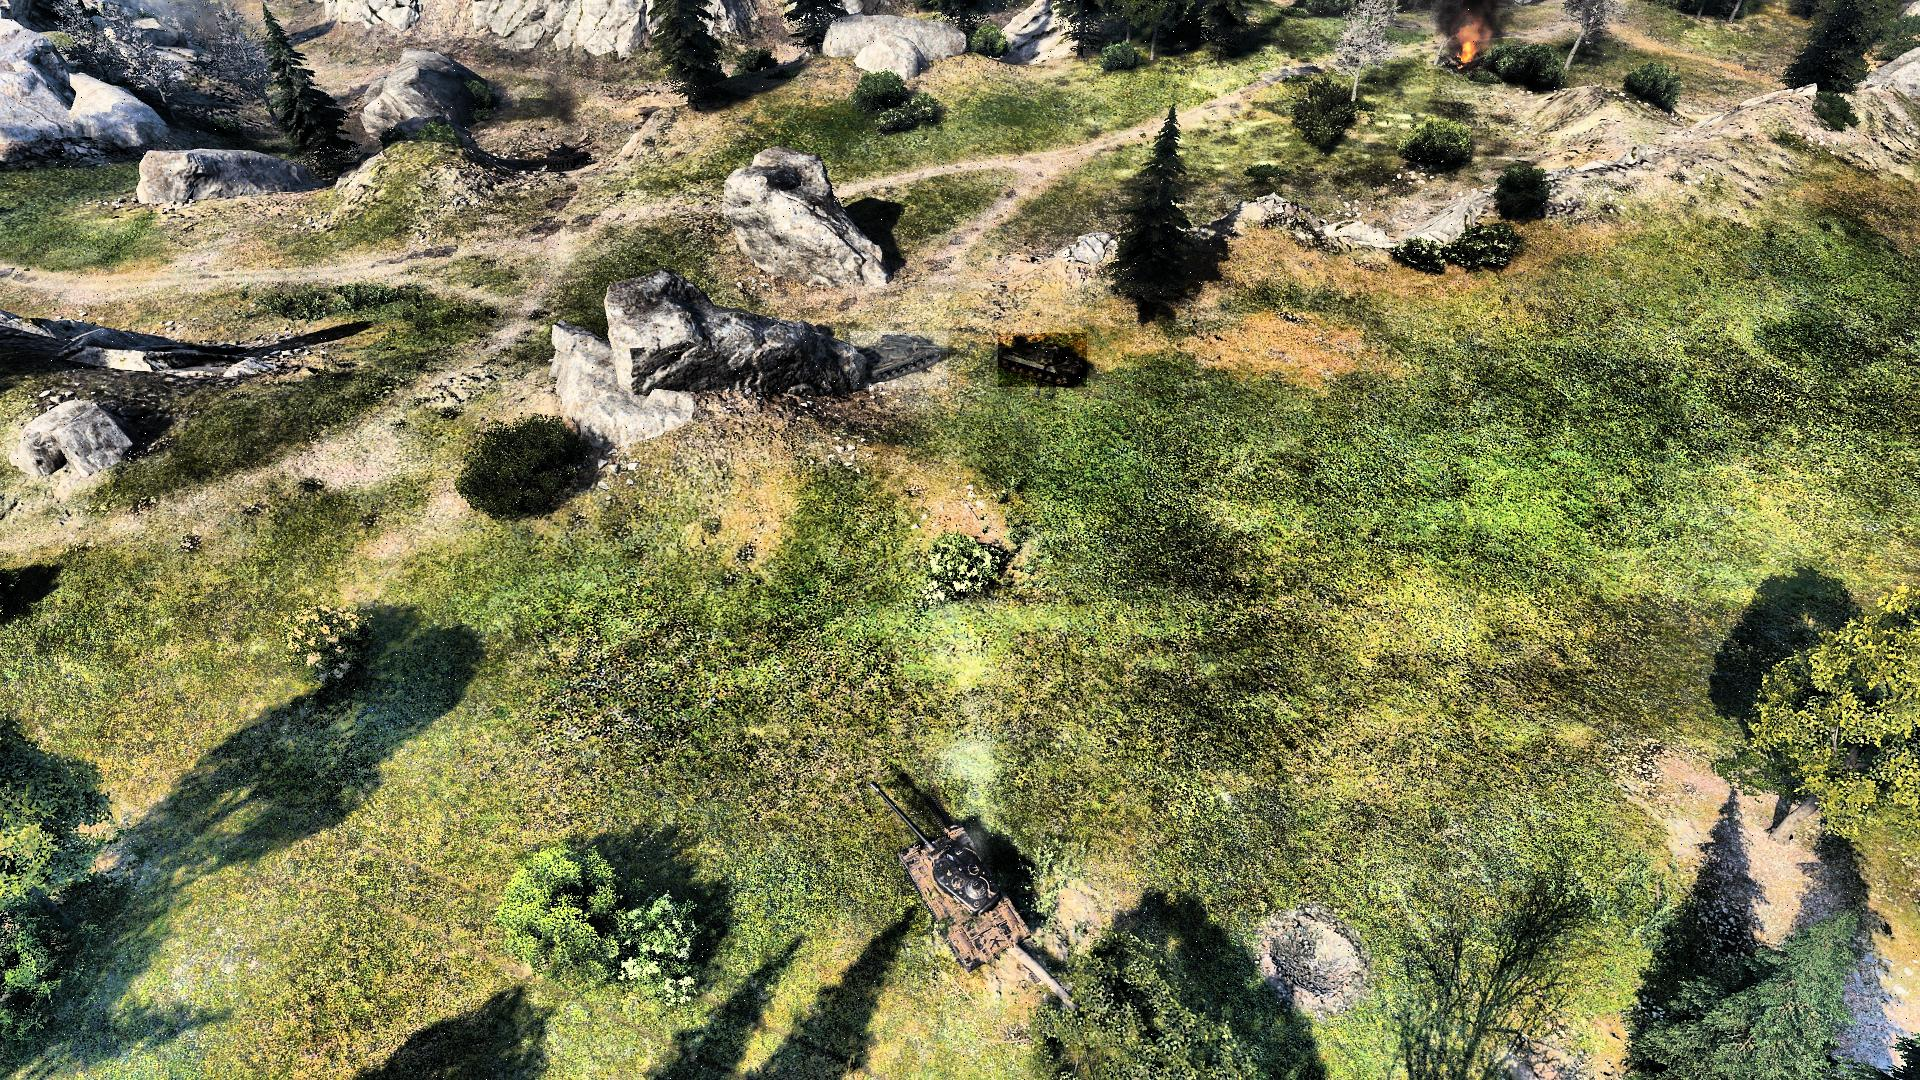military-vehicle: (873, 773, 1031, 971), (851, 332, 948, 390), (998, 334, 1087, 386)
